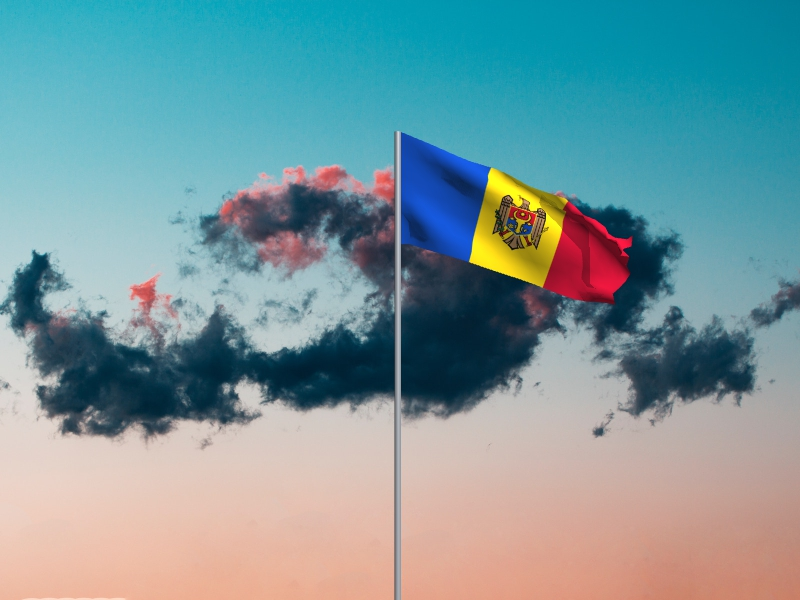md: (402, 133, 634, 307)
